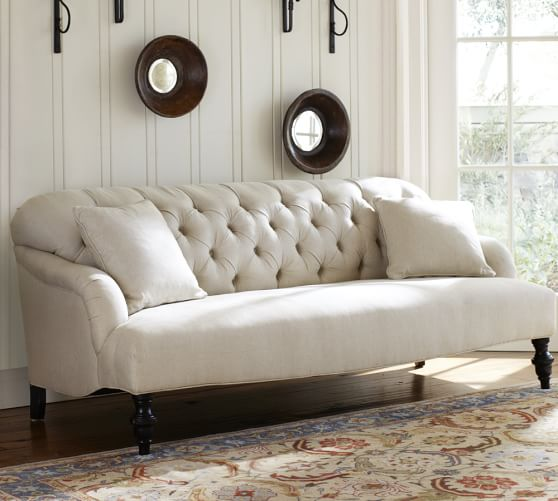chairs: (8, 177, 558, 454)
